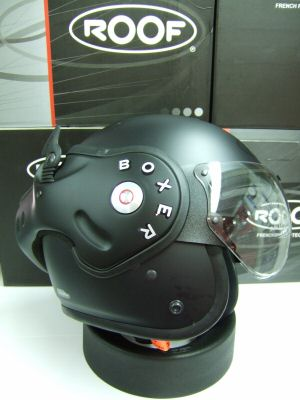helmet: (41, 120, 292, 344)
